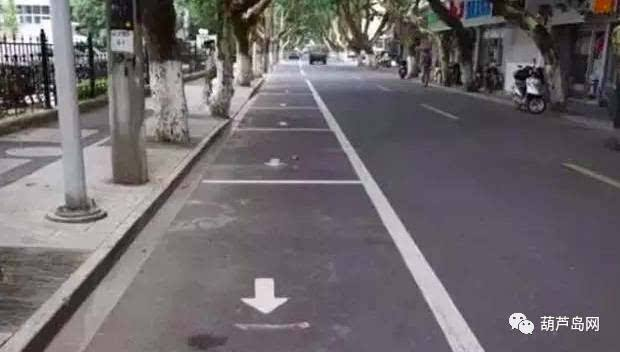slot_nocar: (71, 171, 488, 352), (196, 119, 378, 191), (227, 99, 343, 136), (246, 84, 324, 113)
